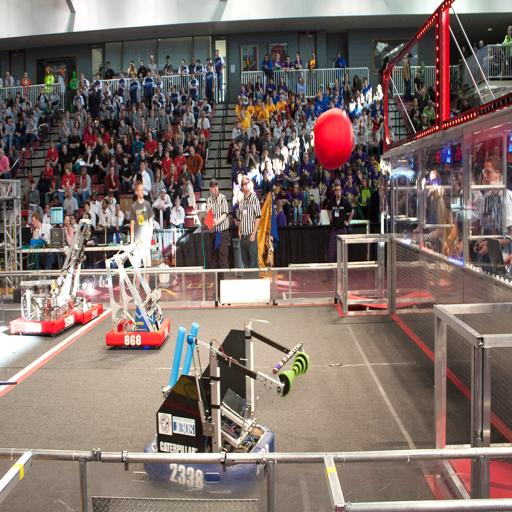robot: (144, 318, 310, 493), (104, 234, 172, 350), (11, 224, 81, 334), (57, 226, 104, 328)
